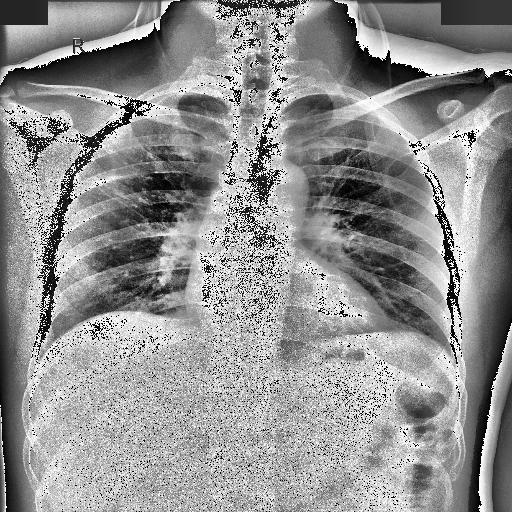13- Pulmonary fibrosis: (102, 146, 173, 230), (94, 132, 155, 209), (102, 144, 159, 208)
2- Calcification: (102, 146, 173, 230)
